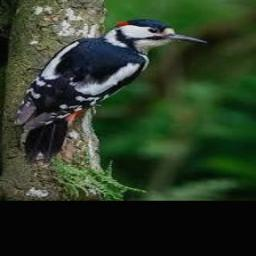Woodpecker: (14, 19, 207, 165)
